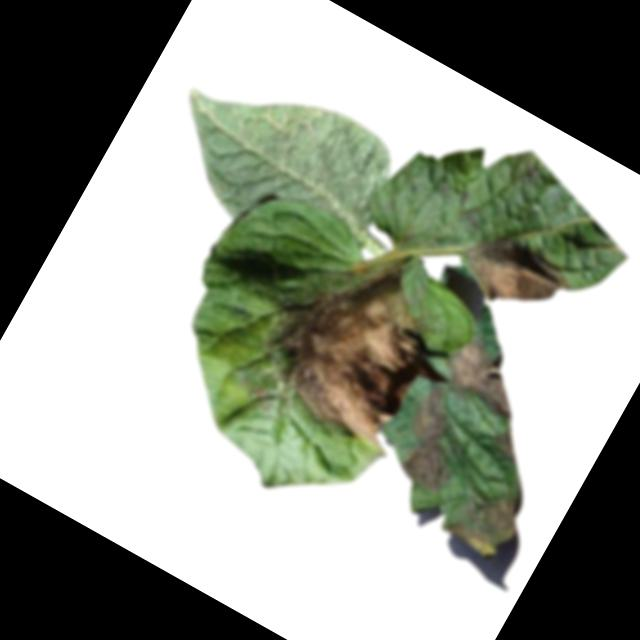Late_blight: (245, 216, 472, 457), (453, 222, 580, 331), (381, 377, 491, 500), (431, 326, 539, 423), (436, 469, 535, 566), (487, 422, 529, 464)
healthy: (142, 42, 415, 284)
